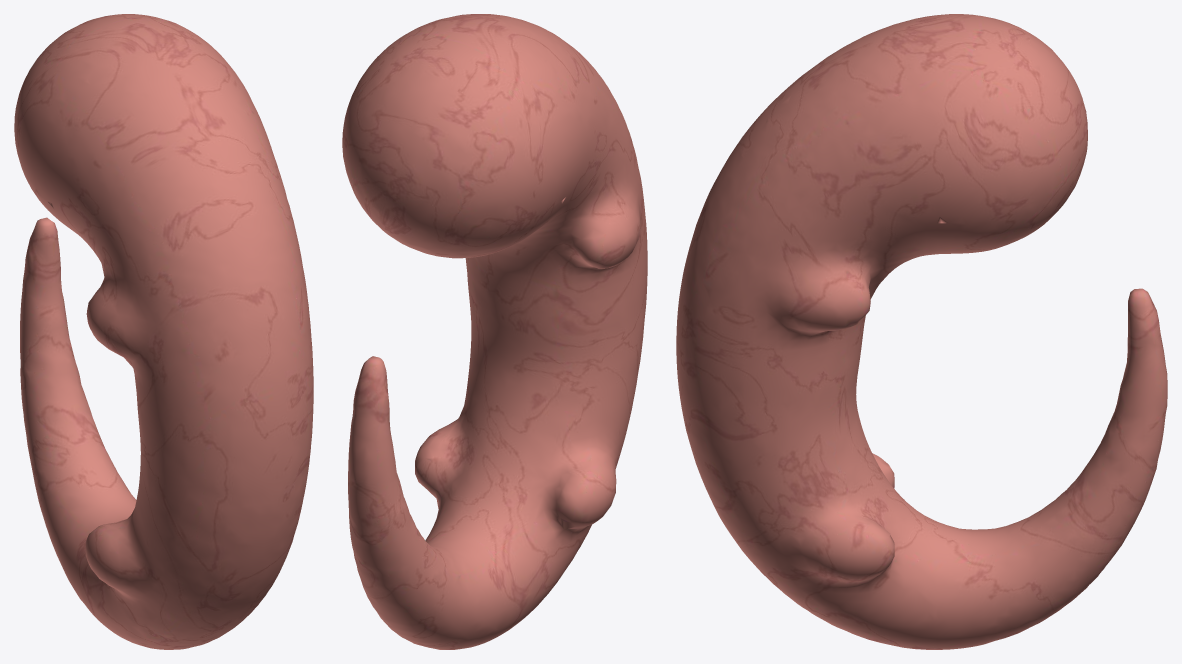
3 renders of one model, left to right at view 1: azimuth 30°, elevation 25°; view 2: azimuth 150°, elevation 25°; view 3: azimuth 270°, elevation 25°, orthographic. The views are drawn at different scales.
Visible parts, largest first — view 1: Baby; view 2: Baby; view 3: Baby.
Part boxes in pixels (<box>): Baby: <box>14,14,313,649</box>; Baby: <box>342,14,647,649</box>; Baby: <box>676,14,1167,649</box>.
Bounding box in the file's own units: 0.00201 × 0.0057 × 0.0041.
1 material, 1 textured.
